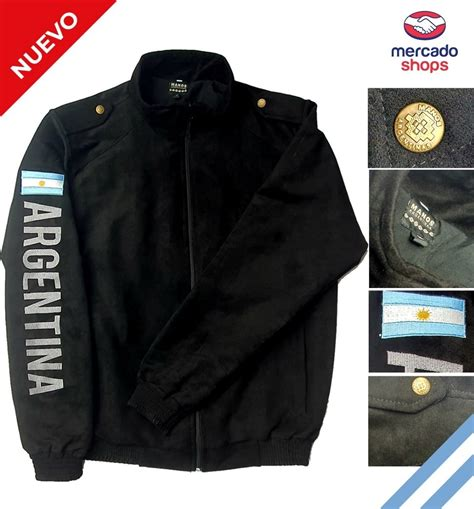gamuza: (2, 51, 367, 482)
